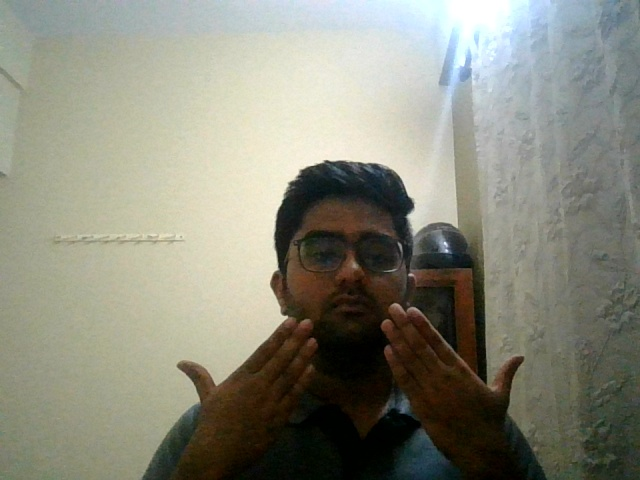Thank You: (164, 298, 560, 480)
